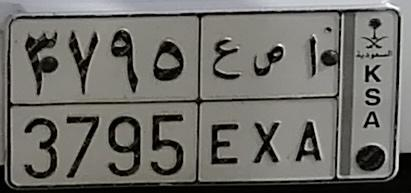3: (24, 30, 59, 180)
5: (150, 38, 186, 176)
7: (65, 28, 101, 179)
9: (108, 27, 143, 177)
A: (294, 33, 323, 163)
E: (210, 35, 243, 165)
X: (251, 41, 285, 166)
